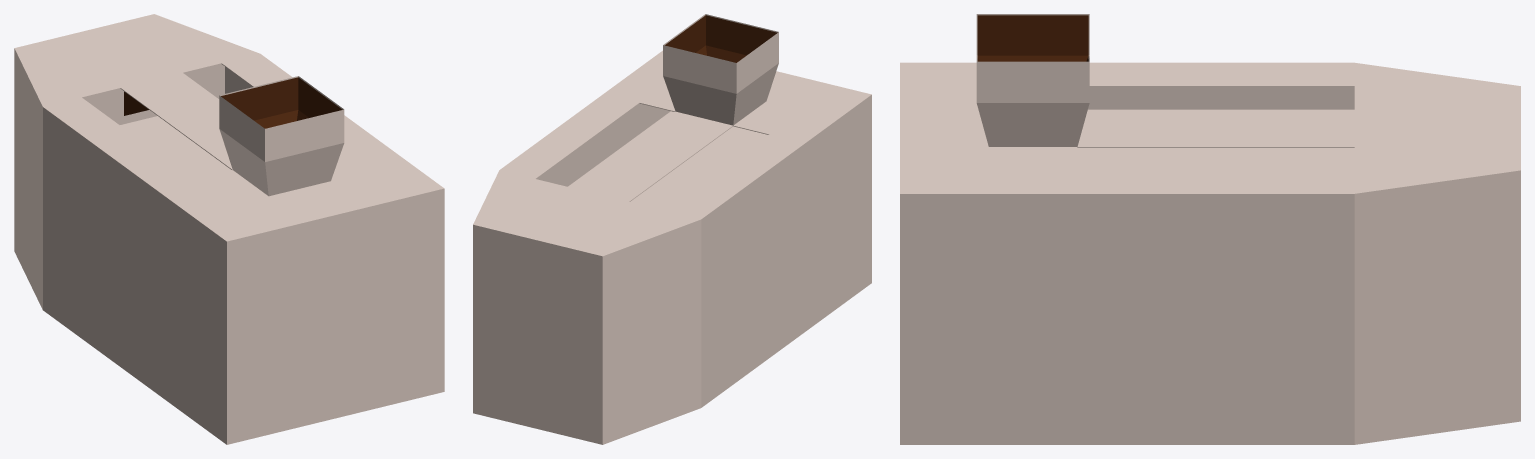
Rendered from level.glb.
The picture shows the model from 3 angles, left to right: view 1: azimuth 30°, elevation 25°; view 2: azimuth 150°, elevation 25°; view 3: azimuth 270°, elevation 25°; orthographic projection. The views are drawn at different scales.
Visible parts, largest first — view 1: Level; view 2: Level; view 3: Level.
Boxes of the visible parts, x1,y1,x2,y2 form: Level: (14, 14, 444, 444); Level: (473, 14, 871, 444); Level: (900, 14, 1520, 444).
Bounding box in the file's own units: 28 × 34 × 56.
